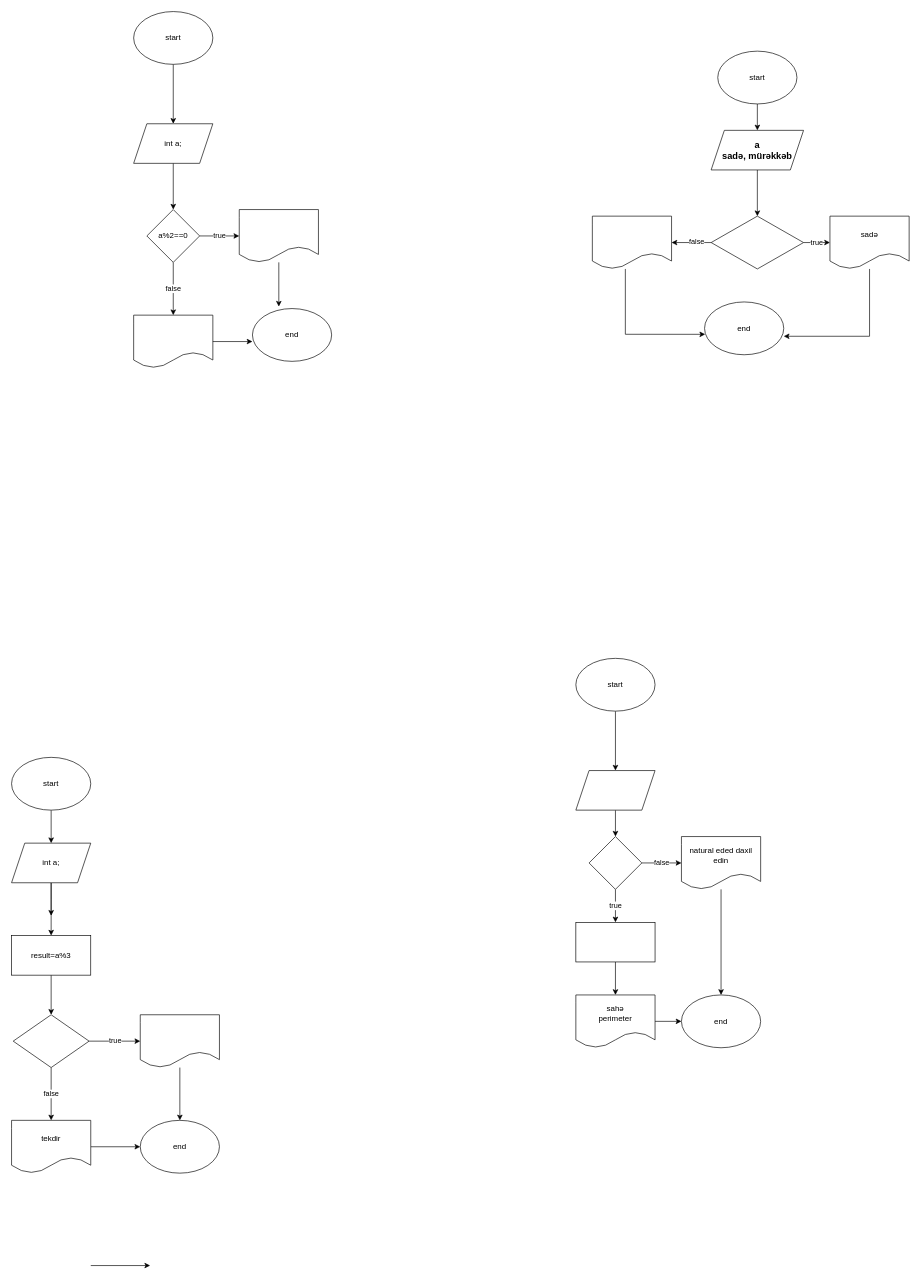
This 921x1282 diagram has some shape labels left out. The shapes that lost their labels are listed below. From the top down, each one's box as (x1, y1, x2, y2) in pixels, then its label:
(239, 209, 318, 262): cüt
(592, 215, 672, 269): mürəkkəb
(710, 215, 804, 269): a sadə ədəddir?
(133, 314, 213, 368): tək
(575, 770, 655, 810): a,b
(588, 836, 642, 889): a>0 && b>0
(575, 922, 655, 962): sahə = a*b perimetr =2*(a+b)
(13, 1014, 89, 1068): result%2==0
(140, 1014, 219, 1068): cutdur
